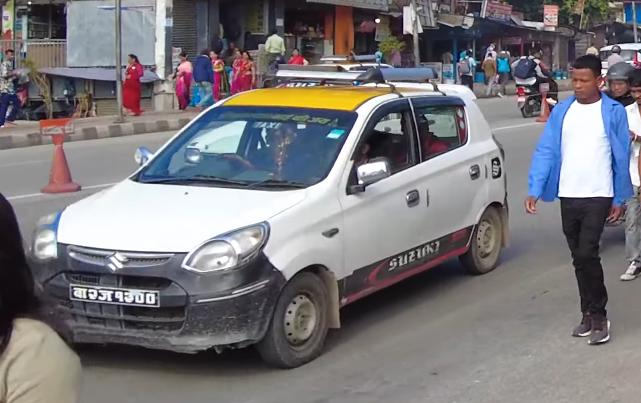taxi: (10, 70, 516, 373)
